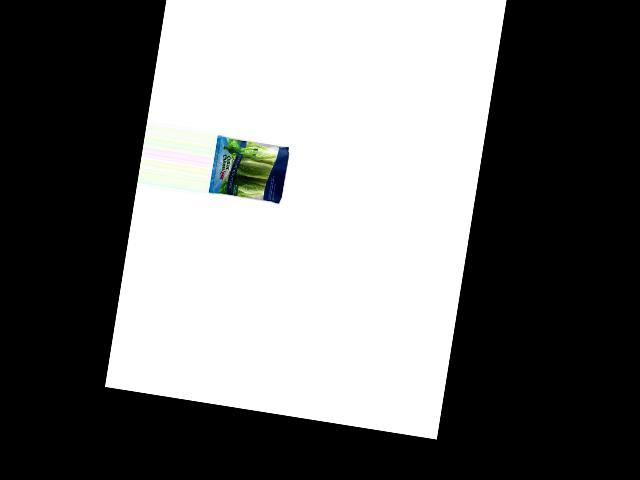lettuce: (211, 134, 293, 205)
